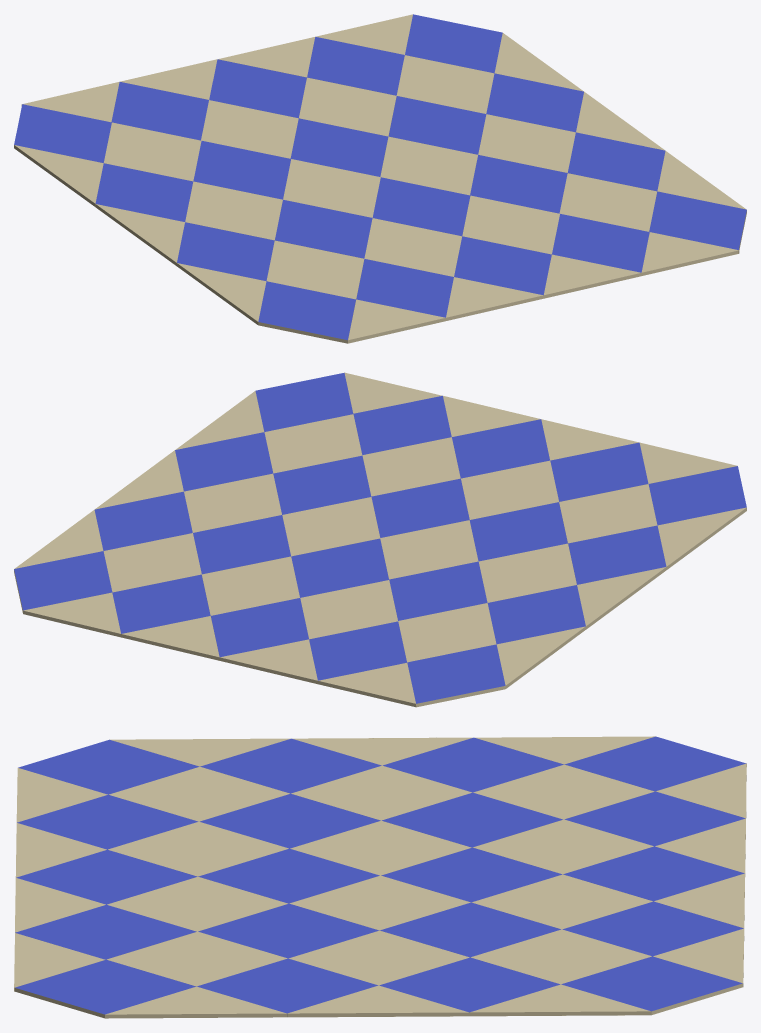
File: Floor.fbx
3 views of the same model, one above another, from view 1: azimuth 30°, elevation 25°; view 2: azimuth 150°, elevation 25°; view 3: azimuth 270°, elevation 25° (orthographic). The views are drawn at different scales.
Parts seen in each view (by area): view 1: Cube; view 2: Cube; view 3: Cube.
Boxes of the visible parts, x1,y1,x2,y2 form: Cube: (14, 14, 746, 343); Cube: (14, 372, 746, 707); Cube: (14, 736, 746, 1018).
Bounding box in the file's own units: 550 × 10.54 × 629.
